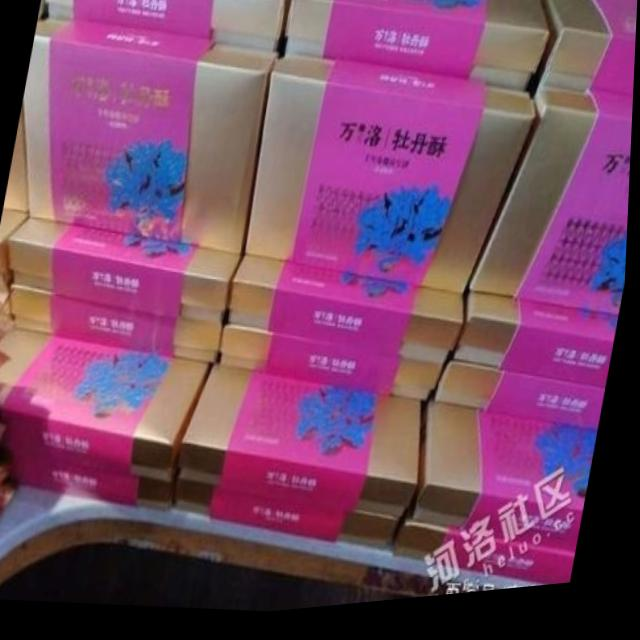box: (246, 60, 537, 303), (23, 19, 289, 260), (465, 96, 635, 329), (183, 368, 427, 529), (0, 324, 217, 485), (406, 413, 603, 567), (284, 0, 550, 104), (231, 260, 467, 376), (10, 218, 246, 329), (221, 329, 448, 412), (11, 286, 228, 369), (179, 482, 405, 561), (454, 305, 622, 404), (48, 0, 294, 57), (390, 529, 580, 596), (439, 372, 609, 442), (529, 0, 638, 109), (0, 455, 181, 518)
